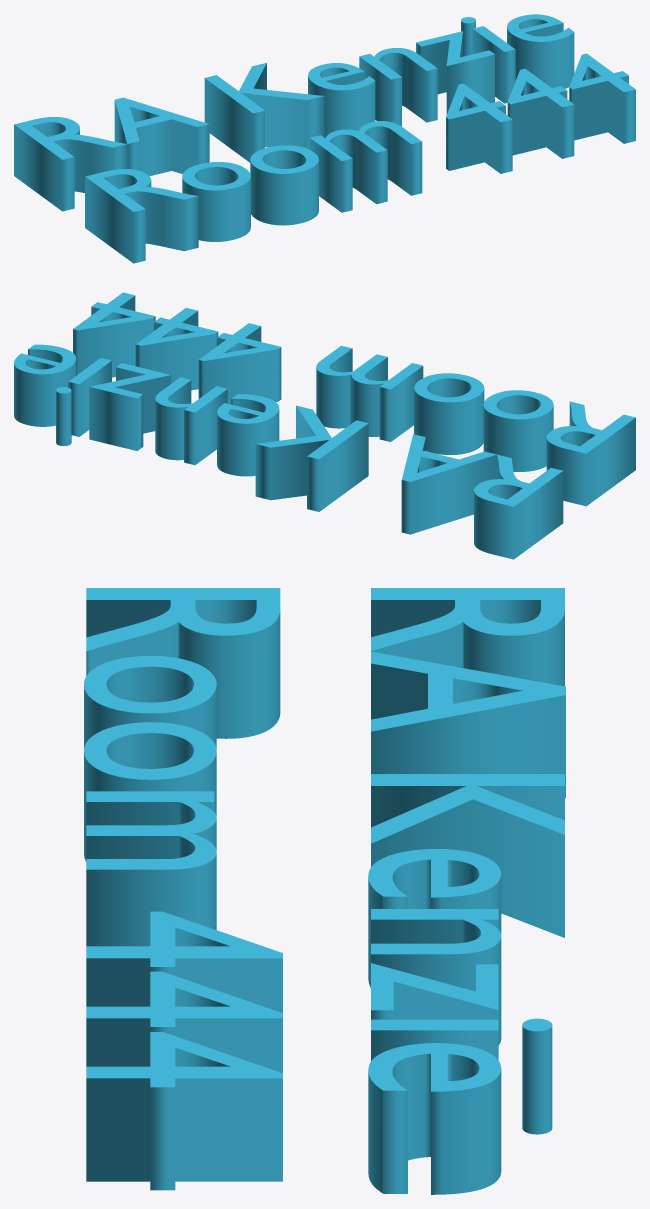
Rendered from ra-kenzie-444.gltf.
The picture shows the model from 3 angles, top to bottom: view 1: azimuth 30°, elevation 25°; view 2: azimuth 150°, elevation 25°; view 3: azimuth 270°, elevation 25°; orthographic projection. The views are drawn at different scales.
Parts seen in each view (by area): view 1: Text; view 2: Text; view 3: Text.
Part boxes in pixels (x1,y1,x2,y2): Text: [14, 14, 635, 263]; Text: [14, 292, 635, 559]; Text: [84, 588, 565, 1194].
Bounding box in the file's own units: 4.19 × 0.4 × 1.69.
